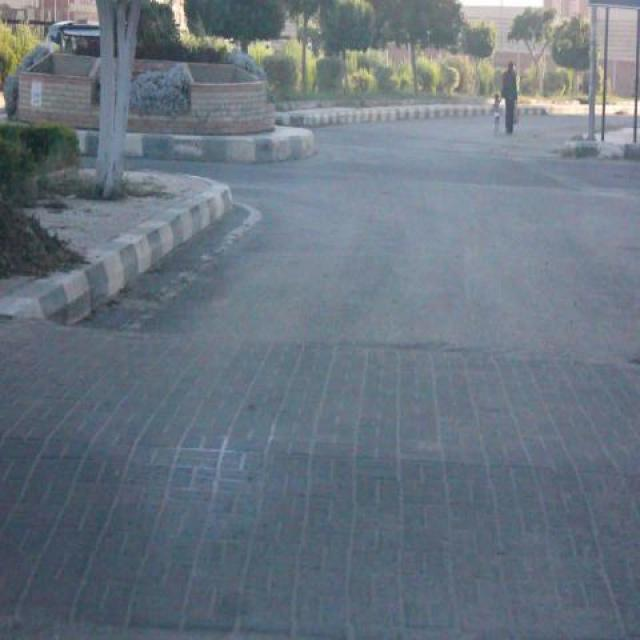Unmarked Bump: (0, 316, 639, 639)
